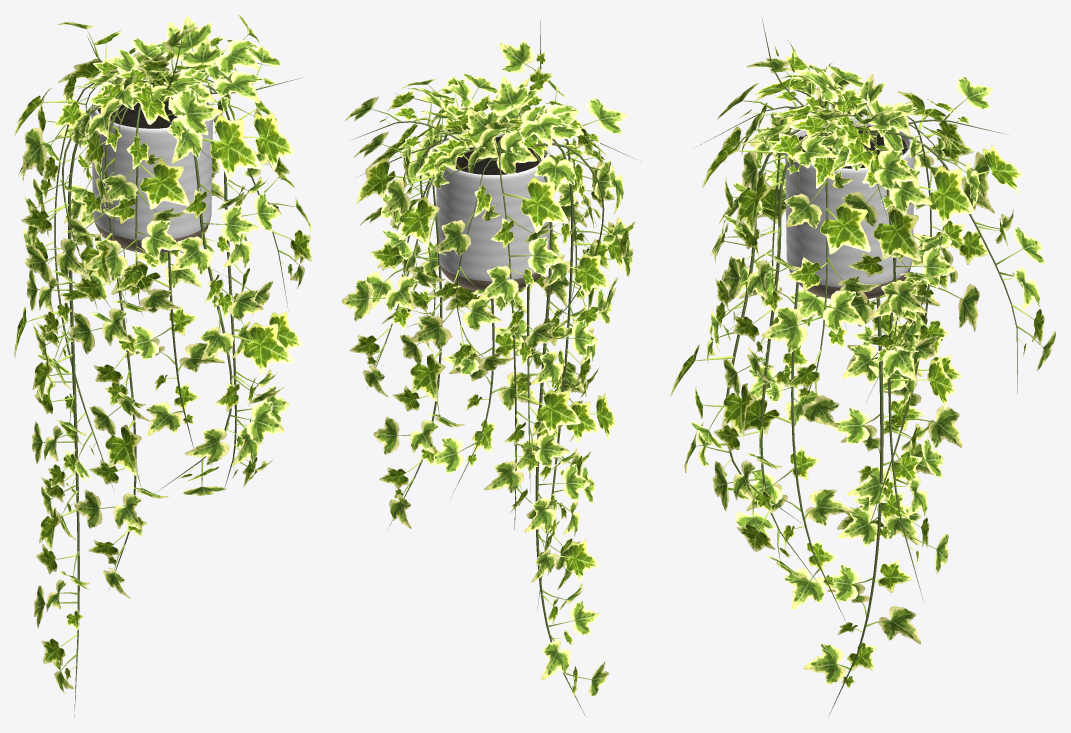
The model's file is ivy.glb.
3 views of the same model, side by side, from view 1: azimuth 30°, elevation 25°; view 2: azimuth 150°, elevation 25°; view 3: azimuth 270°, elevation 25° (orthographic). The views are drawn at different scales.
Parts seen in each view (by area): view 1: 0307vase8, ivy leaf a 1-2.012, ivy leaf a 1-1.012, ivy leaf a 1-2.009, ivy leaf a 1-1.006, ivy leaf a 1-1.009, ivy leaf a 1-2.006, ivy leaf a 1-2.010, ivy leaf a 1-2.016, ivy leaf a 1-2.020, ivy leaf a 1-1.010, ivy leaf a 1-2.007 (+27 smaller); view 2: 0307vase8, ivy leaf a 1-2.006, ivy leaf a 1-2.023, ivy leaf a 1-1.023, ivy leaf a 1-1.006, ivy leaf a 1-2.022, ivy leaf a 1-2.024, ivy leaf a 1-2.020, ivy leaf a 1-1.022, ivy leaf a 1-2.016, ivy leaf a 1-2.014, ivy leaf a 1-1.020 (+28 smaller); view 3: 0307vase8, ivy leaf a 1-2.006, ivy leaf a 1-2.009, ivy leaf a 1-2.018, ivy leaf a 1-1.016, ivy leaf a 1-2.016, ivy leaf a 1-2.020, ivy leaf a 1-1.018, ivy leaf a 1-1.006, ivy leaf a 1-2.023, ivy leaf a 1-1.020, ivy leaf a 1-1.009 (+28 smaller).
Boxes of the visible parts, <box> form: 0307vase8: <box>91,79,212,252</box>; ivy leaf a 1-2.012: <box>167,91,284,496</box>; ivy leaf a 1-1.012: <box>163,82,294,482</box>; ivy leaf a 1-2.009: <box>66,202,168,598</box>; ivy leaf a 1-1.006: <box>26,156,83,680</box>; ivy leaf a 1-1.009: <box>72,186,146,565</box>; ivy leaf a 1-2.006: <box>26,173,91,694</box>; ivy leaf a 1-2.010: <box>83,153,185,313</box>; ivy leaf a 1-2.016: <box>206,96,289,480</box>; ivy leaf a 1-2.020: <box>119,59,224,435</box>; ivy leaf a 1-1.010: <box>105,132,189,296</box>; ivy leaf a 1-2.007: <box>22,125,128,326</box>; 0307vase8: <box>436,134,550,290</box>; ivy leaf a 1-2.006: <box>524,228,608,695</box>; ivy leaf a 1-2.023: <box>479,146,569,519</box>; ivy leaf a 1-1.023: <box>491,131,580,512</box>; ivy leaf a 1-1.006: <box>537,223,609,696</box>; ivy leaf a 1-2.022: <box>341,171,449,396</box>; ivy leaf a 1-2.024: <box>410,202,513,370</box>; ivy leaf a 1-2.020: <box>373,147,464,528</box>; ivy leaf a 1-1.022: <box>349,151,446,365</box>; ivy leaf a 1-2.016: <box>426,111,538,474</box>; ivy leaf a 1-2.014: <box>468,78,627,173</box>; ivy leaf a 1-1.020: <box>379,169,445,498</box>; 0307vase8: <box>785,116,914,299</box>; ivy leaf a 1-2.006: <box>803,204,942,685</box>; ivy leaf a 1-2.009: <box>739,179,853,609</box>; ivy leaf a 1-2.018: <box>761,171,881,427</box>; ivy leaf a 1-1.016: <box>713,172,790,558</box>; ivy leaf a 1-2.016: <box>712,144,806,578</box>; ivy leaf a 1-2.020: <box>870,136,954,574</box>; ivy leaf a 1-1.018: <box>784,157,870,397</box>; ivy leaf a 1-1.006: <box>837,242,924,688</box>; ivy leaf a 1-2.023: <box>847,106,994,508</box>; ivy leaf a 1-1.020: <box>888,165,974,563</box>; ivy leaf a 1-1.009: <box>730,186,837,587</box>.
Bounding box in the file's own units: 26.3 × 63.55 × 29.78.
5 materials, 5 textured.
